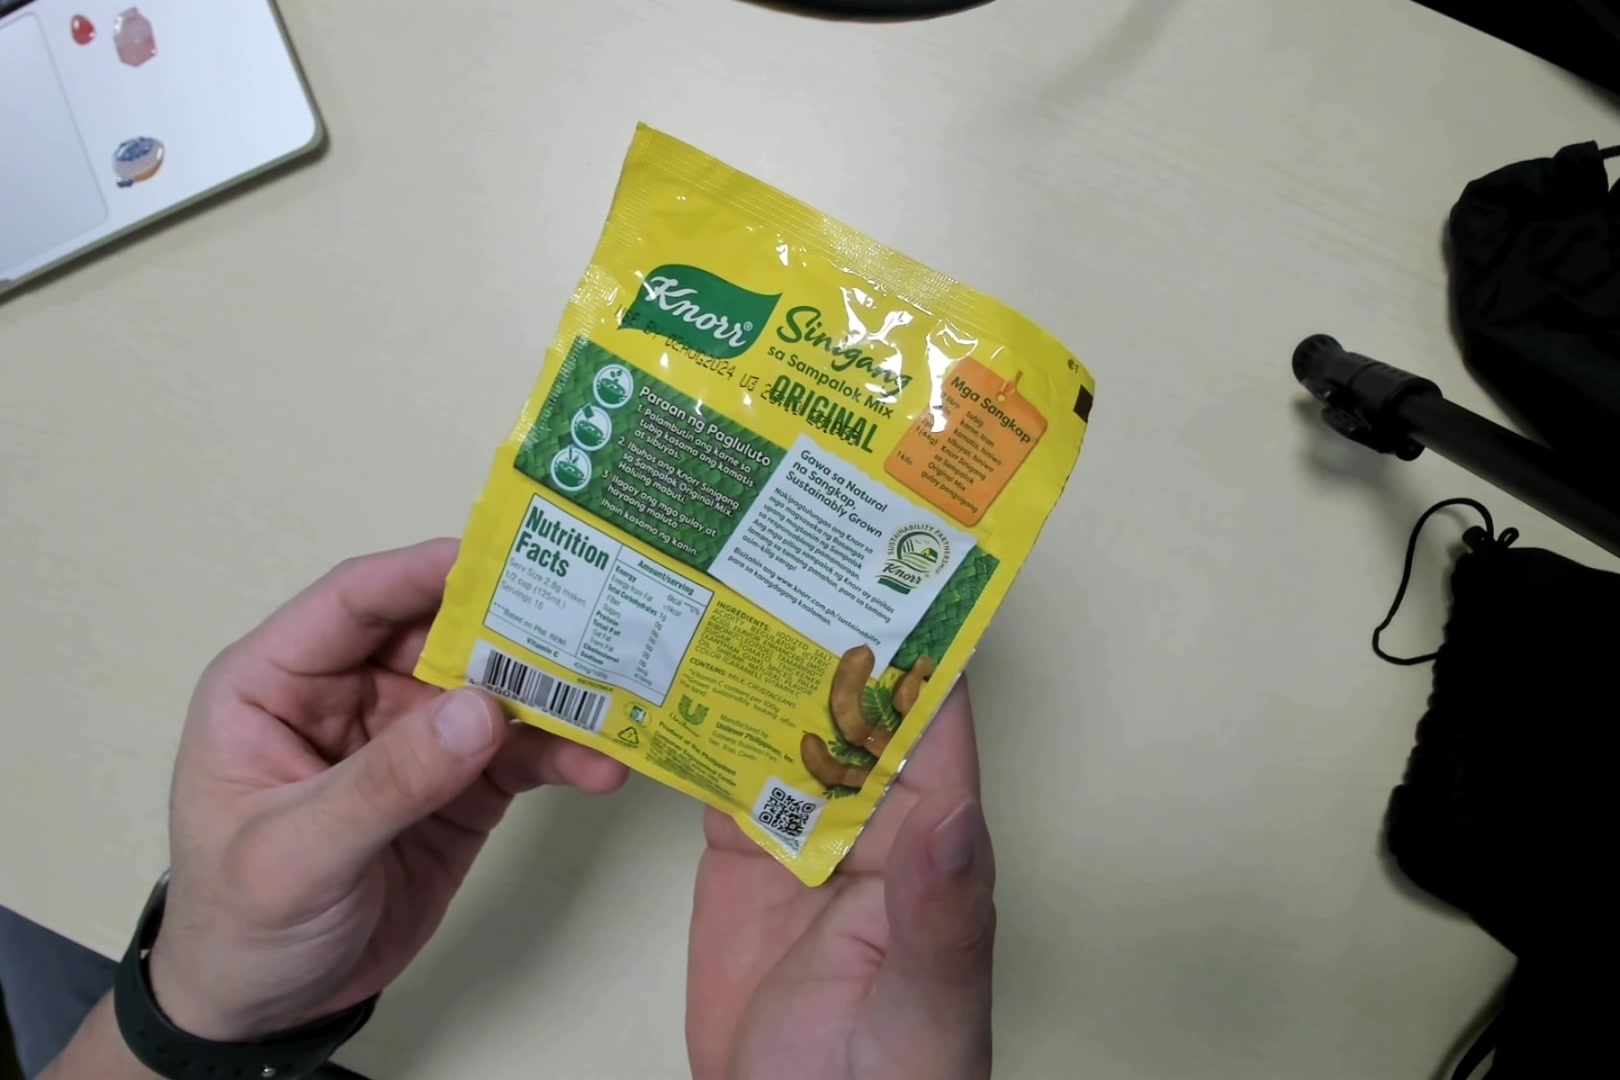SoupStock_0-99g_NonHalal_NonHealthy: (457, 146, 1099, 884)
